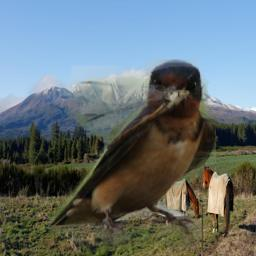Swallow: (48, 59, 216, 251)
